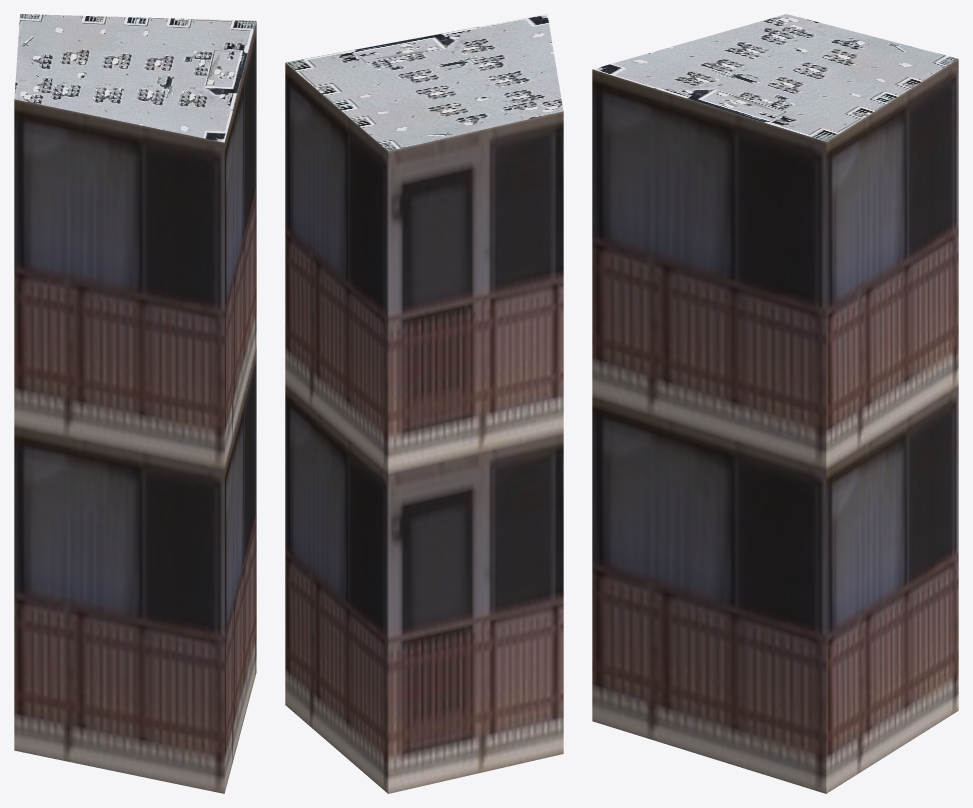
File: ResTex__3904.fbx
3 views of the same model, side by side, from view 1: azimuth 30°, elevation 25°; view 2: azimuth 150°, elevation 25°; view 3: azimuth 270°, elevation 25° (orthographic).
Parts seen in each view (by area): view 1: CityEngineMaterial_6_m, CityEngineMaterial_4_m; view 2: CityEngineMaterial_6_m, CityEngineMaterial_4_m; view 3: CityEngineMaterial_6_m, CityEngineMaterial_4_m.
Part boxes in pixels (x1,y1,x2,y2): CityEngineMaterial_6_m: [14, 21, 256, 793]; CityEngineMaterial_4_m: [14, 14, 256, 142]; CityEngineMaterial_6_m: [285, 63, 563, 793]; CityEngineMaterial_4_m: [285, 14, 563, 151]; CityEngineMaterial_6_m: [592, 59, 958, 793]; CityEngineMaterial_4_m: [593, 14, 958, 141].
Bounding box in the file's own units: 2.53 × 6 × 3.05.
2 materials, 2 textured.
